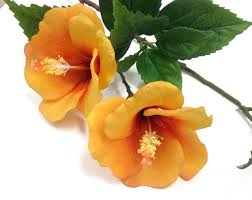hybiscus: (20, 3, 118, 126)
